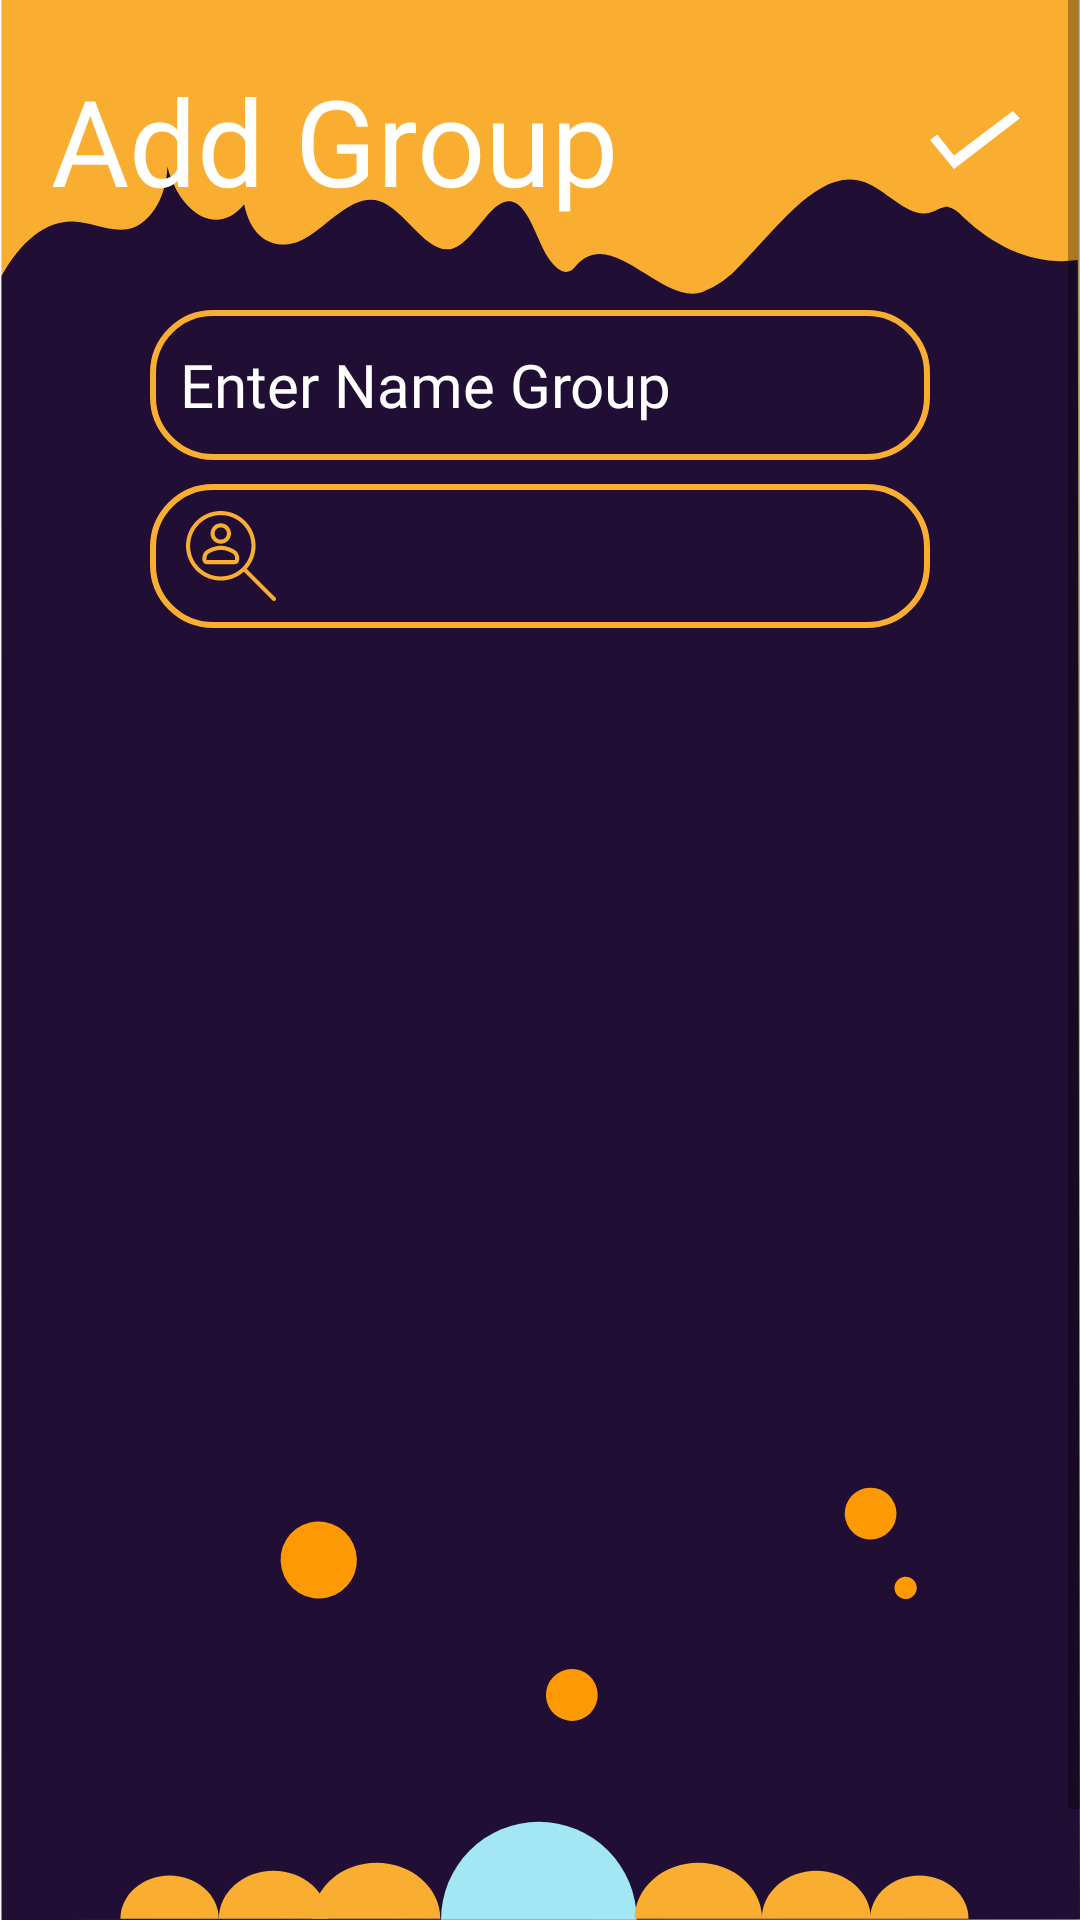

Icon click points for this 1080×1920 phone screenshot, format [x,y]:
finish: [975,140]
